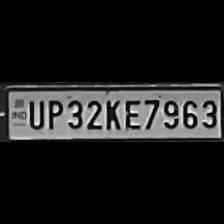2: (85, 97, 103, 130)
3: (64, 97, 82, 129), (199, 97, 217, 129)
6: (180, 97, 198, 129)
7: (140, 96, 158, 130)
9: (160, 97, 180, 129)
E: (122, 96, 140, 130)
K: (102, 97, 122, 130)
P: (45, 97, 63, 130)
U: (25, 98, 43, 130)
